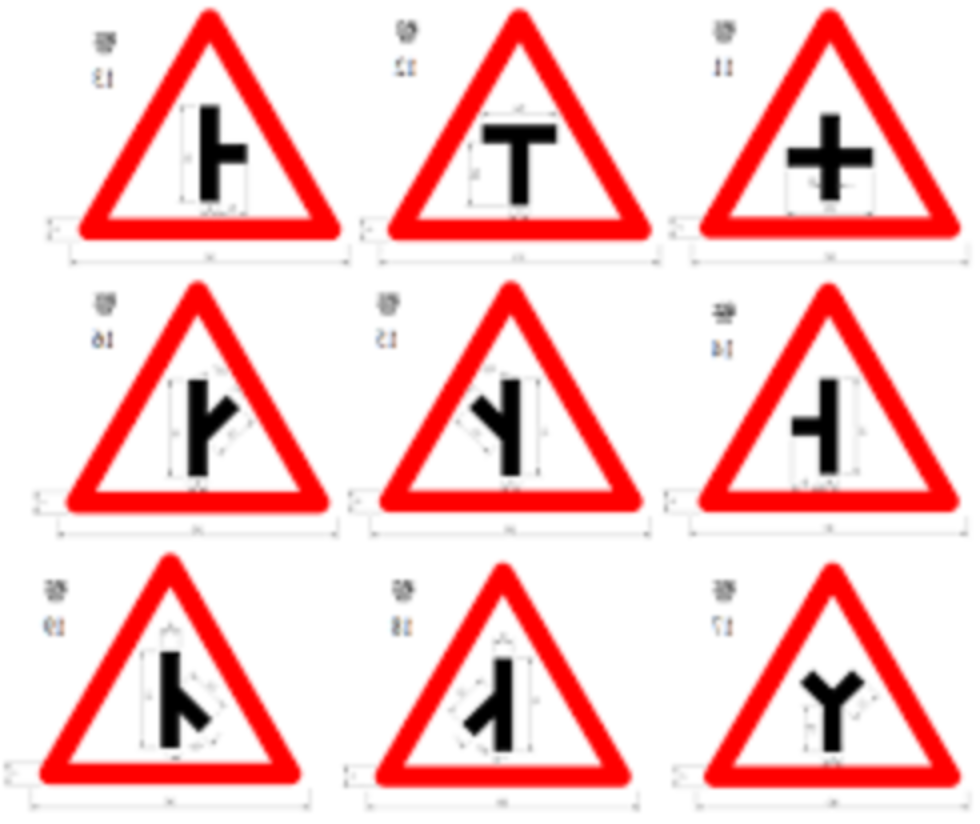Fork_road: (53, 3, 360, 256), (56, 272, 345, 520), (690, 546, 965, 801), (696, 275, 969, 525), (47, 540, 312, 795), (694, 2, 962, 250), (388, 5, 661, 246), (369, 560, 653, 791), (377, 277, 647, 516)
